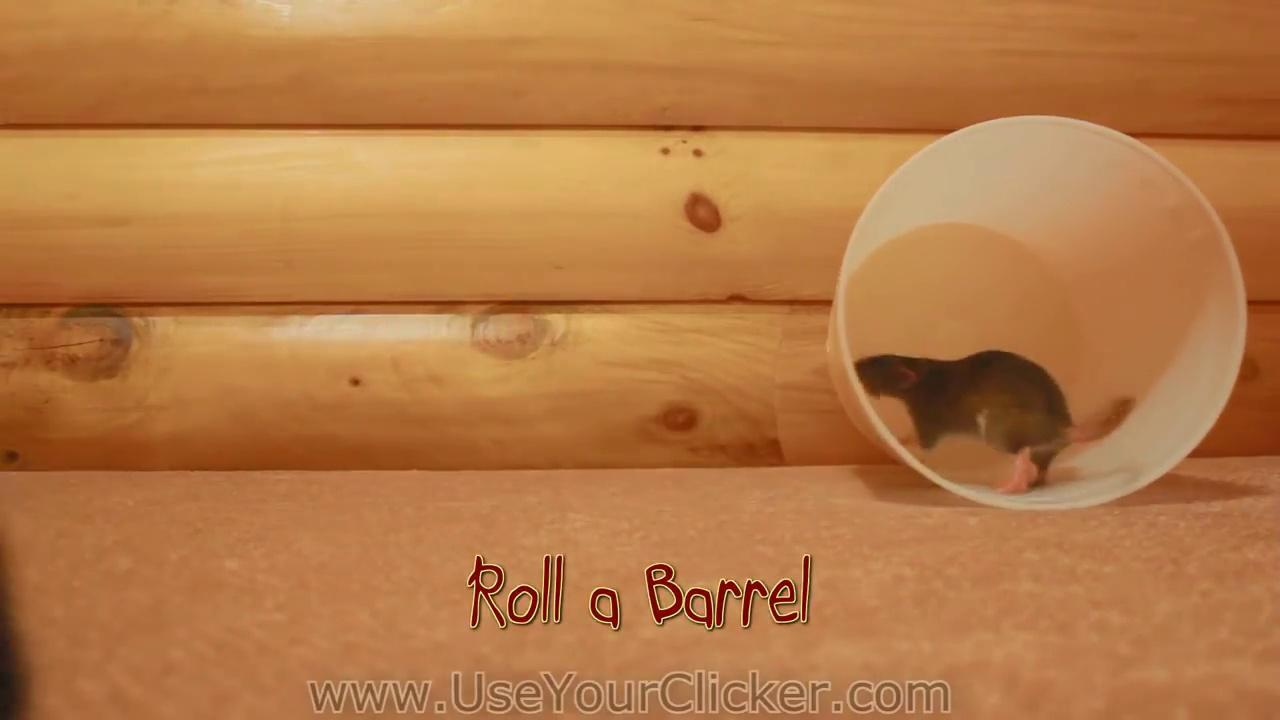rat: (854, 349, 1139, 492)
